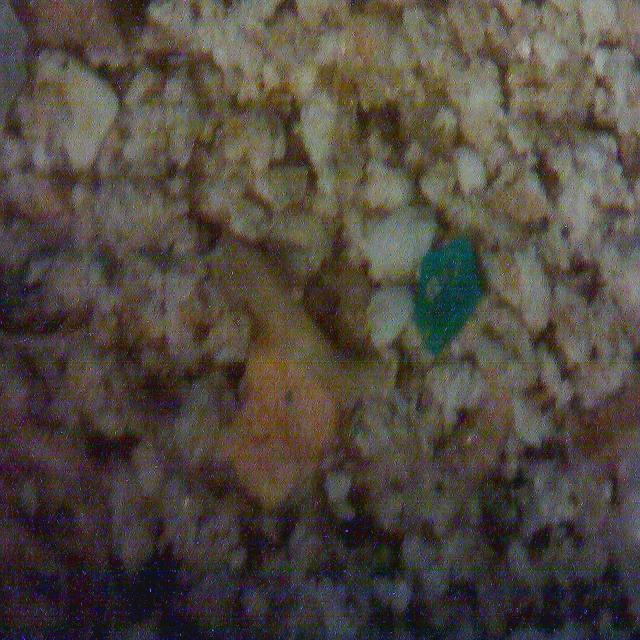microplastic: (413, 236, 489, 357)
